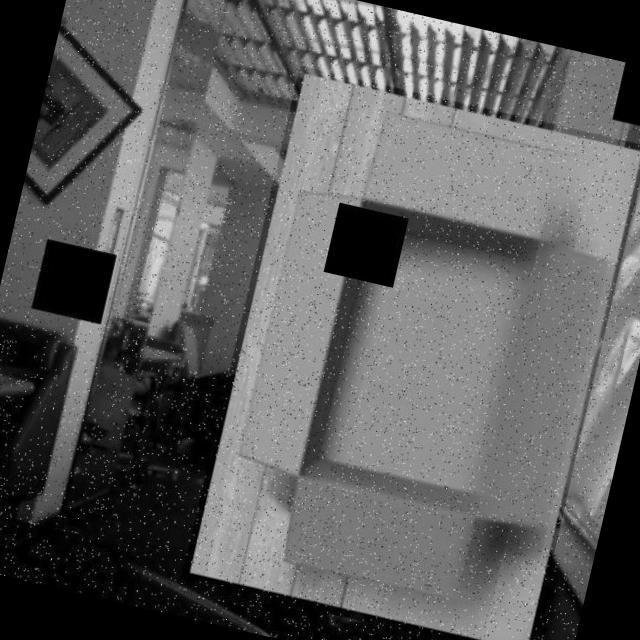box: (181, 65, 640, 640)
